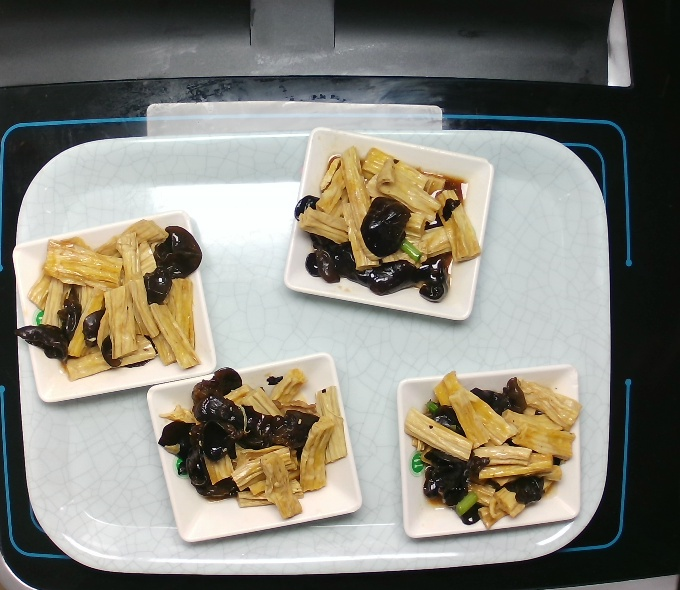wcq-MuErFuZhu: (291, 136, 492, 307), (401, 360, 589, 534), (14, 213, 206, 380), (154, 361, 349, 525)
